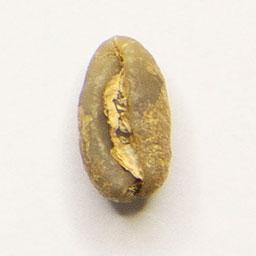longberry: (73, 30, 177, 210)
